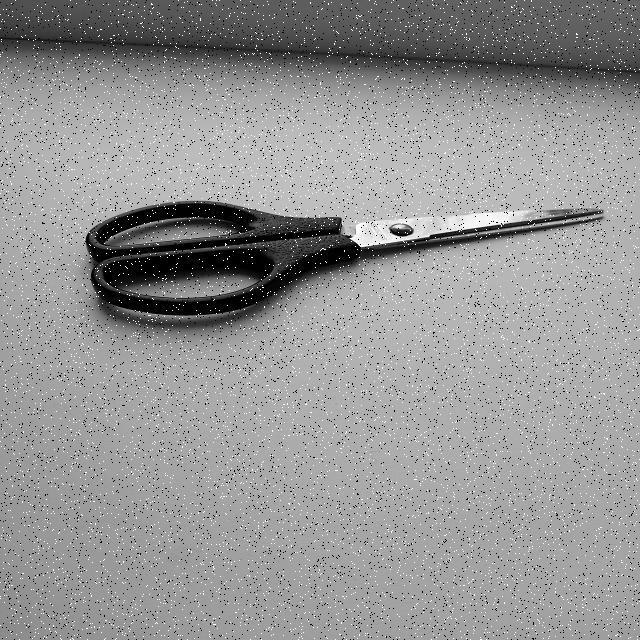scissors: (75, 184, 614, 324)
